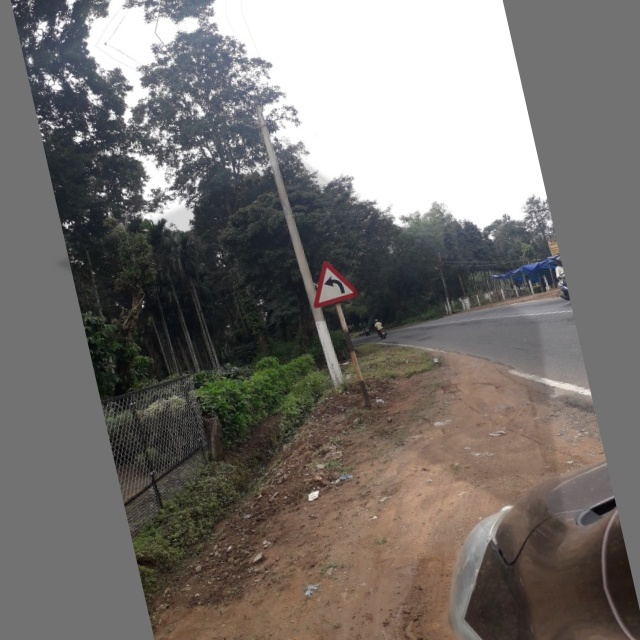Left_Hand_Curve: (305, 252, 357, 307)
